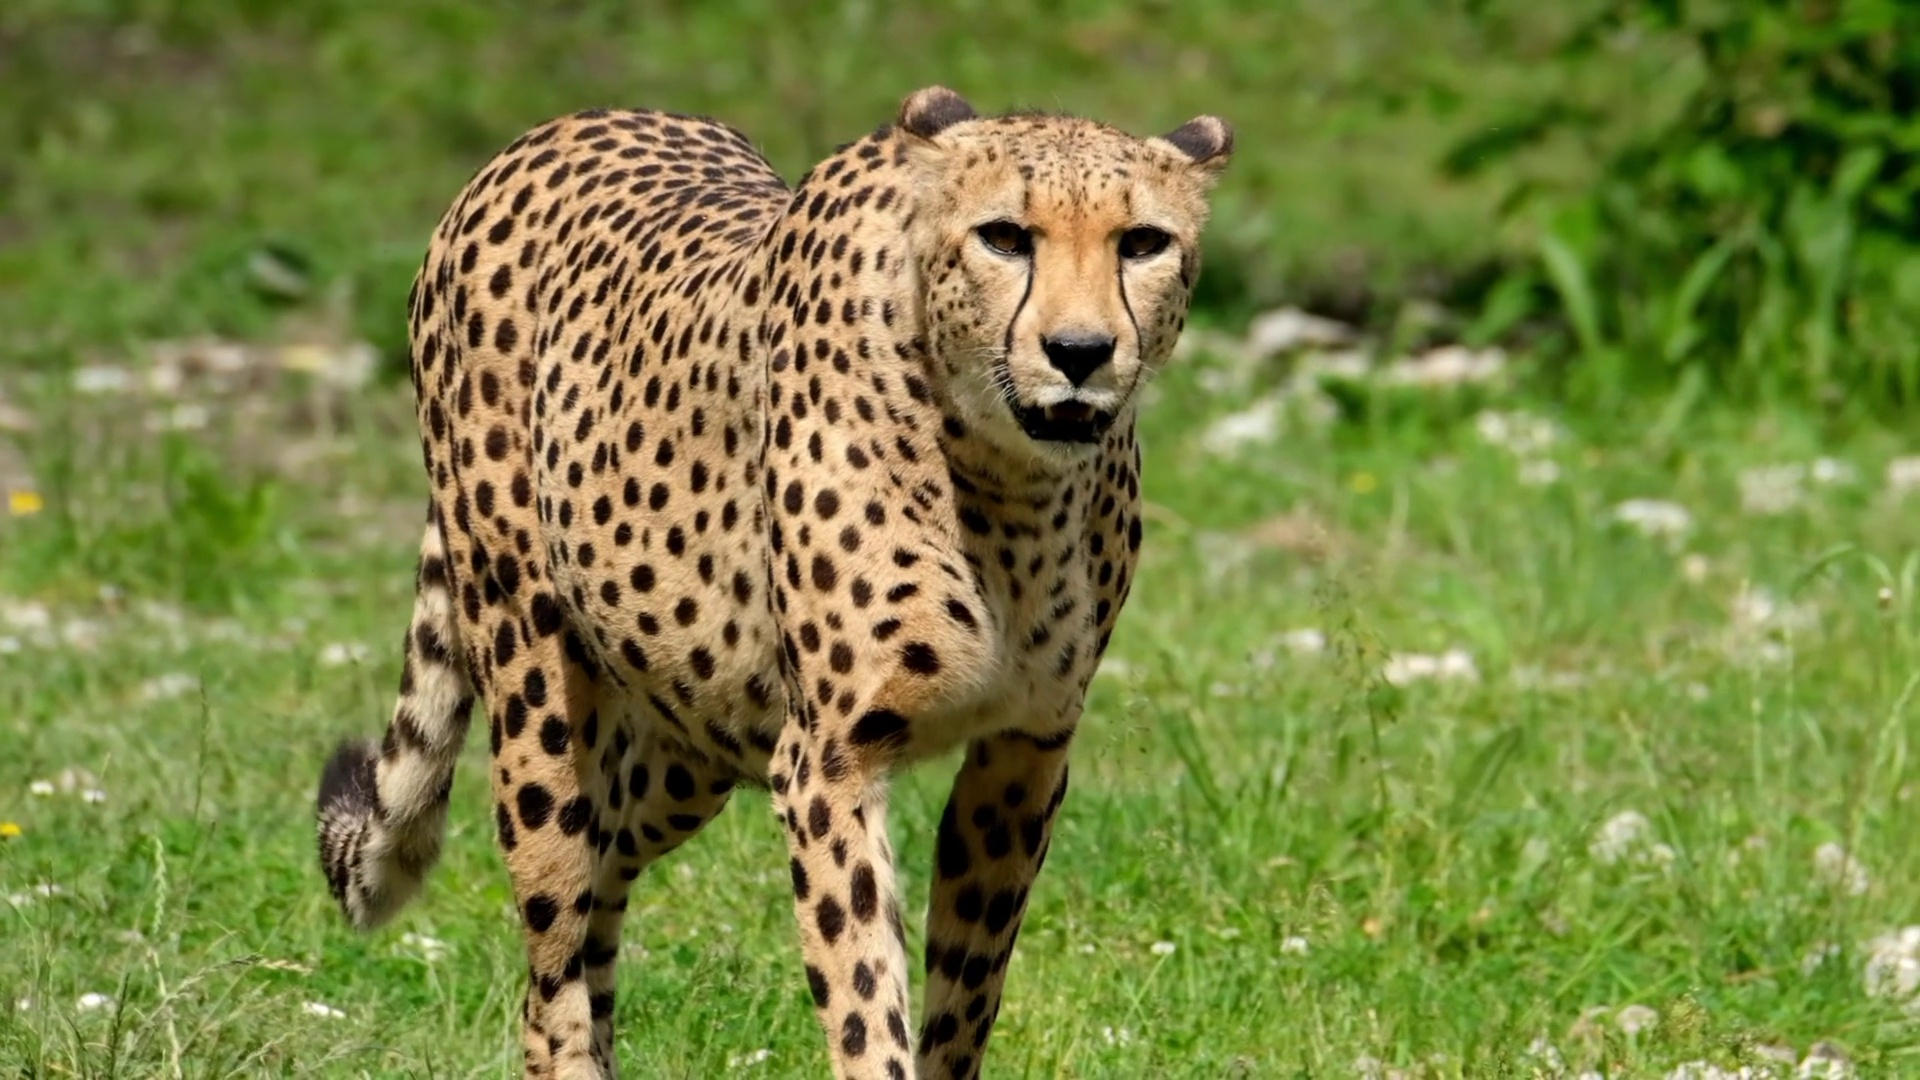Cheetah: (311, 76, 1237, 1080)
